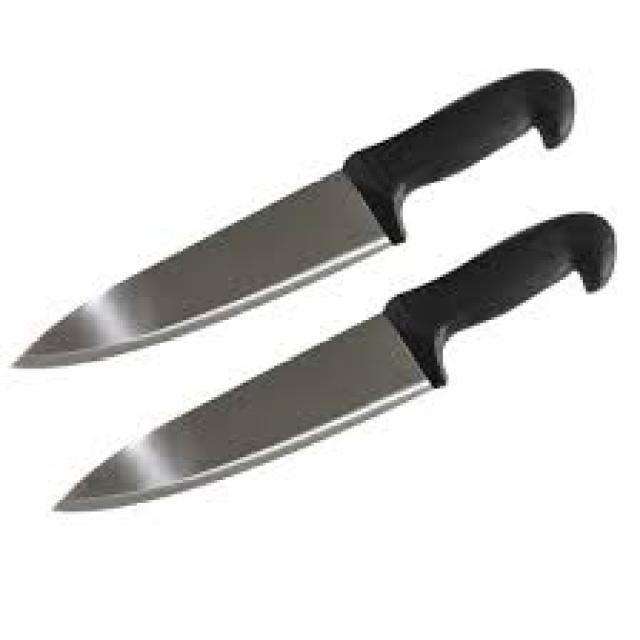Knife: (51, 209, 614, 511), (11, 69, 571, 369)
